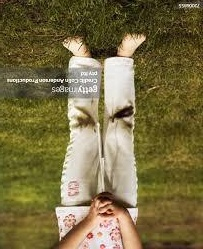earth: (110, 105, 133, 128), (75, 109, 96, 130)
